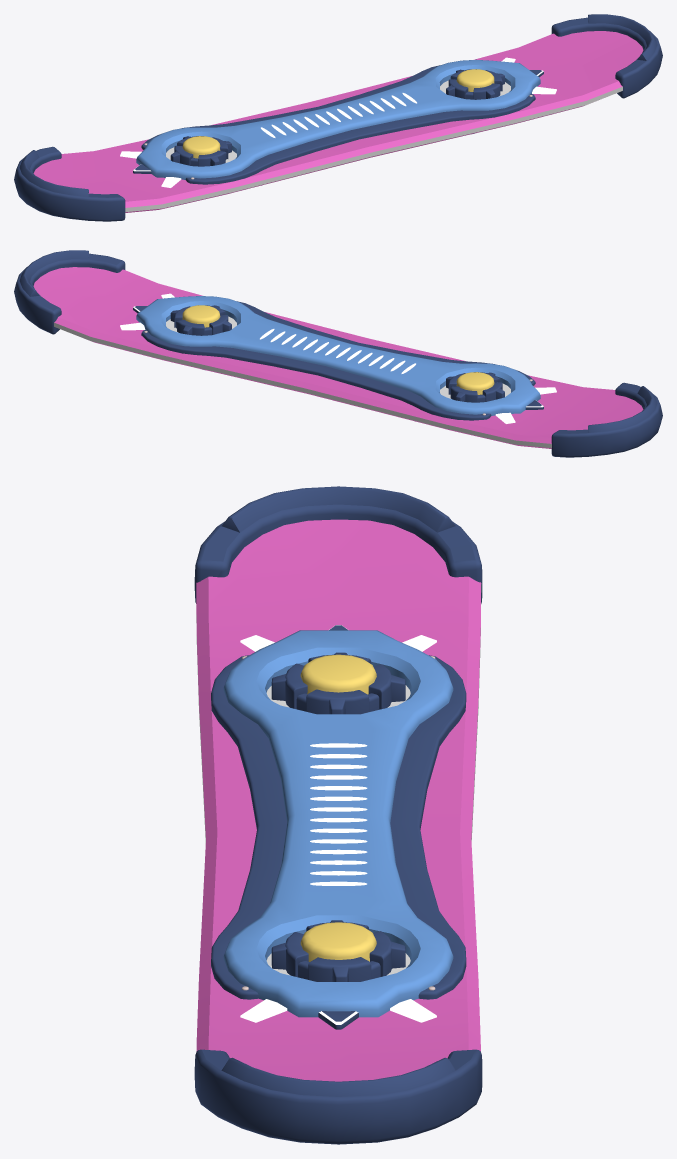
The model's file is hoverboard.fbx.
3 renders of one model, top to bottom at view 1: azimuth 30°, elevation 25°; view 2: azimuth 150°, elevation 25°; view 3: azimuth 270°, elevation 25°, orthographic. The views are drawn at different scales.
Parts seen in each view (by area): view 1: Plane, Circle, Plane.003, Circle.006, Circle.002, Circle.003, Circle.005, Plane.004, Circle.004; view 2: Plane, Circle, Plane.003, Circle.006, Circle.002, Circle.003, Circle.005, Plane.004, Circle.004; view 3: Plane, Circle, Plane.003, Circle.006, Circle.002, Circle.003, Circle.005, Circle.004, Plane.004.
Part boxes in pixels (x1,y1,x2,y2): Plane: [33, 31, 643, 212]; Circle: [136, 59, 540, 179]; Plane.003: [14, 14, 662, 221]; Circle.006: [141, 65, 535, 184]; Circle.002: [174, 69, 502, 166]; Circle.003: [182, 69, 494, 158]; Circle.005: [261, 93, 416, 137]; Plane.004: [120, 57, 556, 187]; Circle.004: [170, 69, 504, 165]; Plane: [33, 267, 643, 448]; Circle: [136, 296, 540, 415]; Plane.003: [14, 250, 662, 457]; Circle.006: [141, 301, 535, 420]; Circle.002: [174, 305, 502, 402]; Circle.003: [182, 305, 494, 394]; Circle.005: [260, 329, 415, 373]; Plane.004: [120, 293, 556, 423]; Circle.004: [170, 305, 504, 401]; Plane: [196, 519, 481, 1081]; Circle: [223, 630, 453, 1017]; Plane.003: [194, 486, 482, 1144]; Circle.006: [211, 655, 466, 999]; Circle.002: [285, 654, 391, 981]; Circle.003: [300, 654, 376, 961]; Circle.005: [310, 743, 367, 885]; Circle.004: [271, 652, 405, 981]; Plane.004: [240, 635, 436, 1022].
Bounding box in the file's own units: 1116 × 80.83 × 221.
